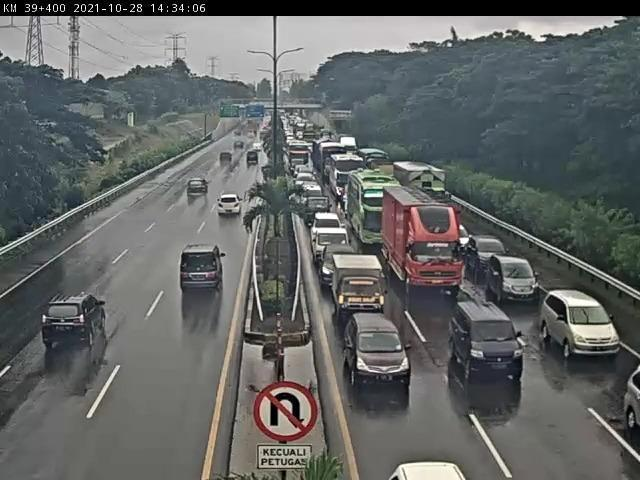bus: (349, 172, 402, 248), (323, 152, 363, 194), (287, 140, 309, 170)
car: (442, 298, 521, 377), (536, 281, 620, 354), (340, 310, 408, 384), (333, 253, 390, 318), (43, 293, 109, 346), (487, 253, 539, 303), (181, 246, 229, 293), (311, 225, 353, 269), (321, 249, 362, 291), (467, 236, 509, 271), (299, 195, 331, 225), (308, 214, 347, 233), (448, 222, 471, 253), (218, 193, 245, 219), (187, 179, 212, 204), (297, 179, 321, 200), (246, 154, 261, 173), (295, 168, 313, 183), (251, 142, 268, 157), (218, 152, 233, 166)
truck: (382, 186, 461, 296), (393, 160, 457, 214), (319, 143, 348, 179), (363, 149, 392, 170)
